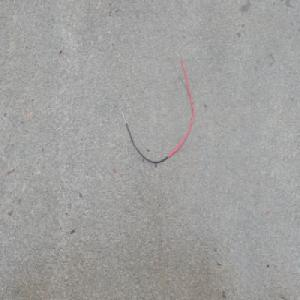Wire: (120, 49, 194, 166)
